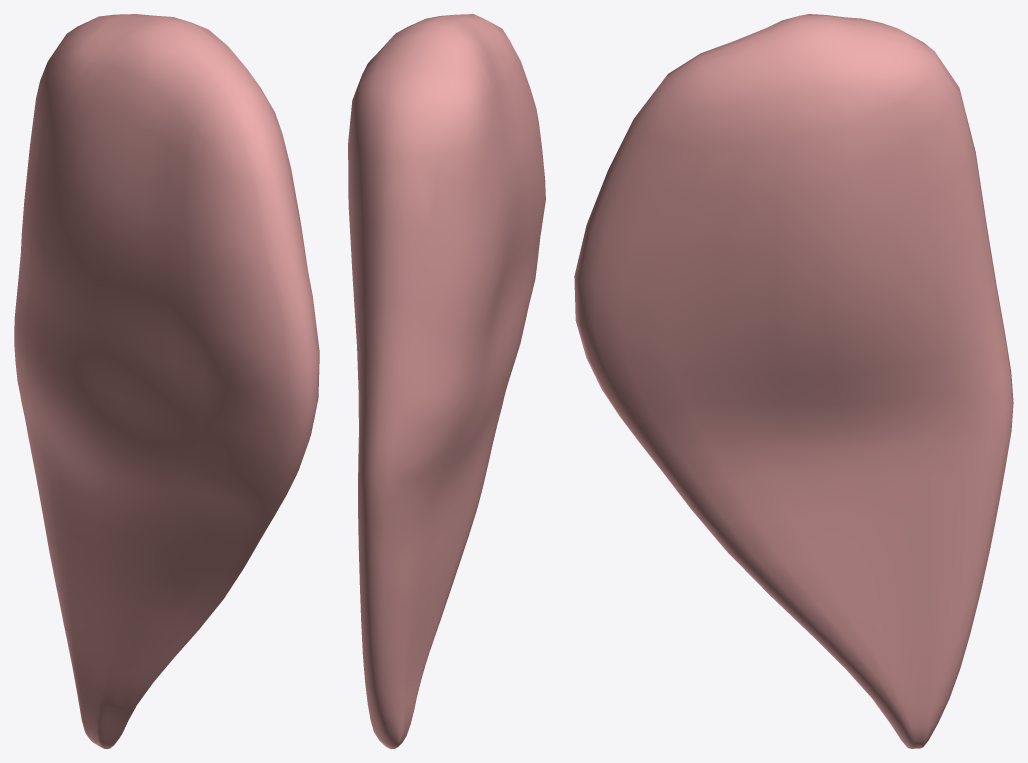
The model's file is ChickenBreast.fbx.
3 renders of one model, left to right at view 1: azimuth 30°, elevation 25°; view 2: azimuth 150°, elevation 25°; view 3: azimuth 270°, elevation 25°, orthographic. The views are drawn at different scales.
Parts seen in each view (by area): view 1: Chickenbreast; view 2: Chickenbreast; view 3: Chickenbreast.
Boxes of the visible parts, x1,y1,x2,y2 form: Chickenbreast: (14, 14, 319, 748); Chickenbreast: (348, 14, 545, 748); Chickenbreast: (574, 14, 1013, 748).
Bounding box in the file's own units: 7.22 × 31.42 × 17.1.
